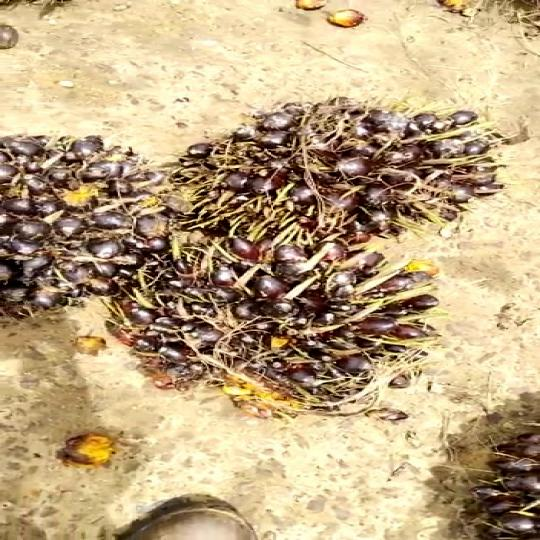mentah: (117, 223, 417, 418), (148, 97, 540, 242), (0, 122, 185, 327)
